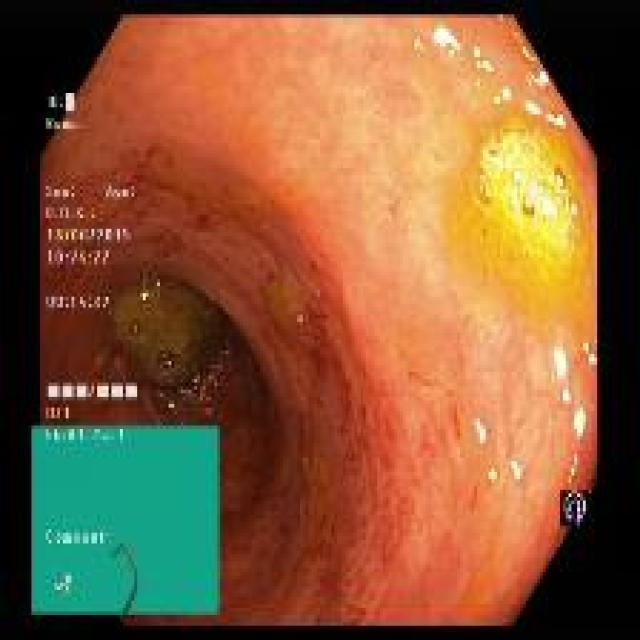ulcerative-colitis: (40, 17, 598, 623)
